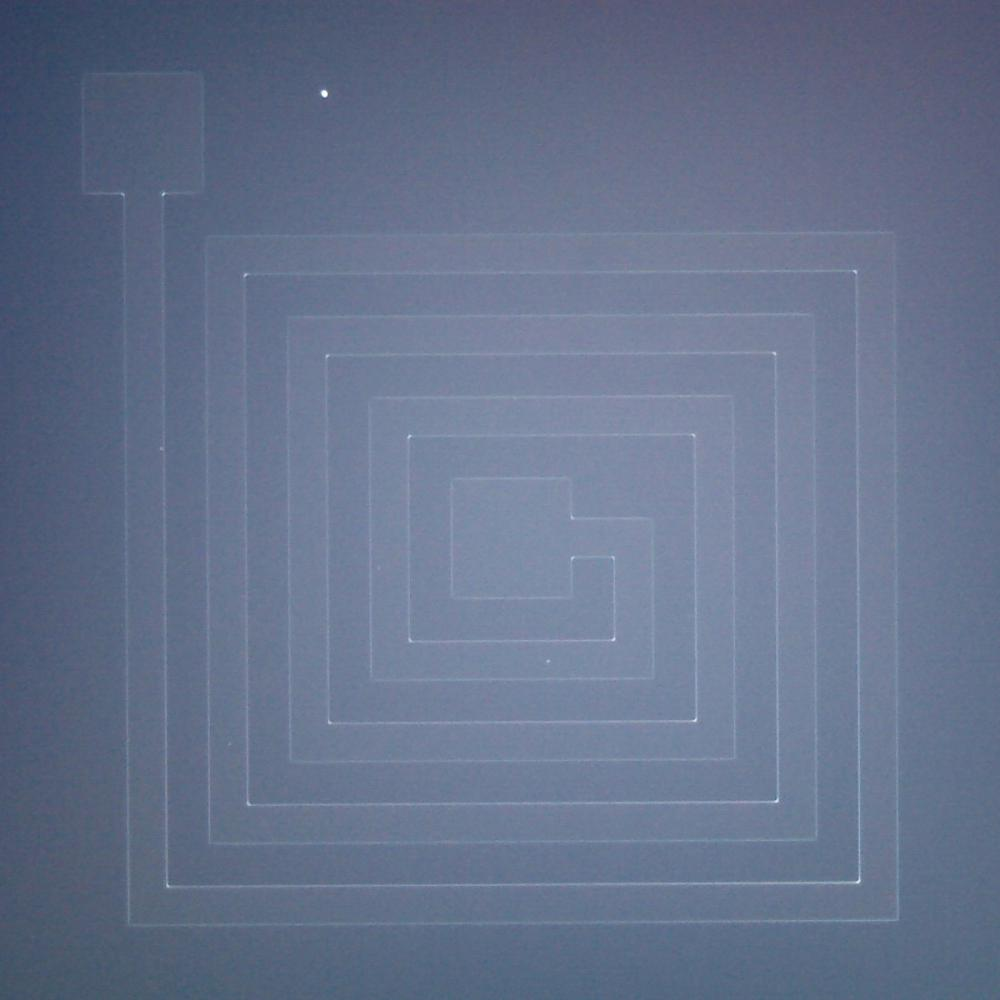dot: (321, 91, 328, 98), (159, 447, 163, 451), (546, 659, 550, 663)
